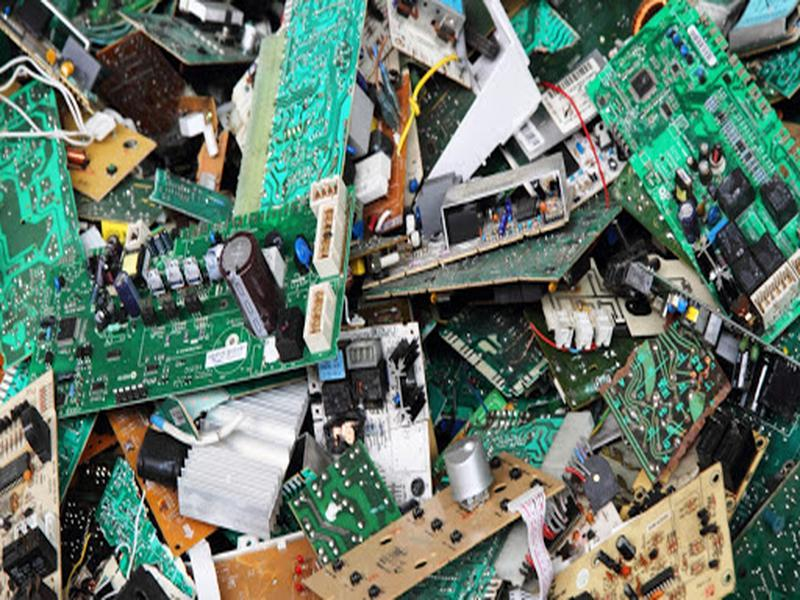circuit_board: (567, 1, 800, 347), (49, 174, 357, 422), (300, 435, 566, 600), (353, 153, 625, 294), (548, 459, 777, 599), (289, 316, 444, 508), (578, 322, 740, 486), (254, 1, 377, 209), (276, 439, 404, 572)
